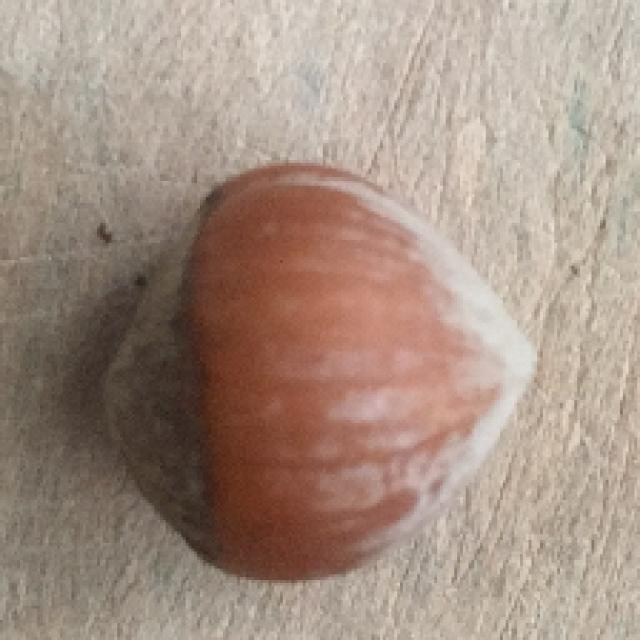qualityHazelnut: (94, 163, 540, 585)
